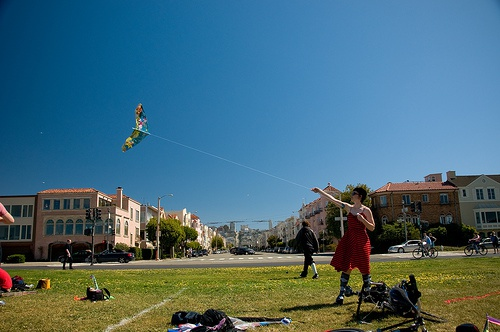non-vehicle: (345, 275, 442, 325), (462, 240, 487, 256), (412, 245, 438, 259)
